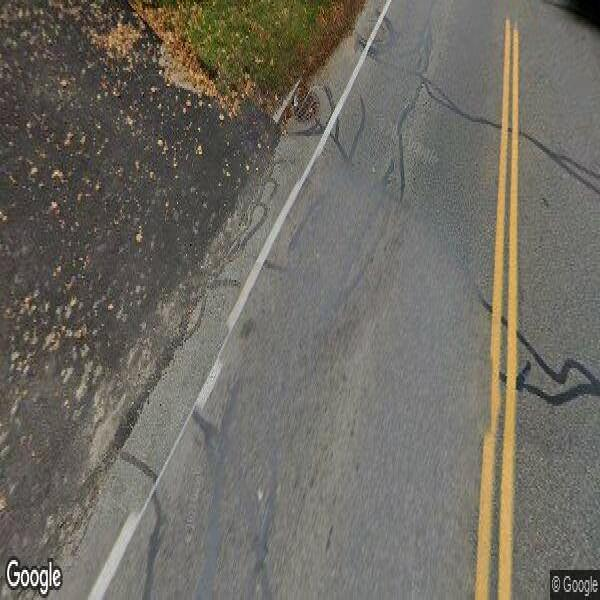manhole: (286, 81, 323, 135)
